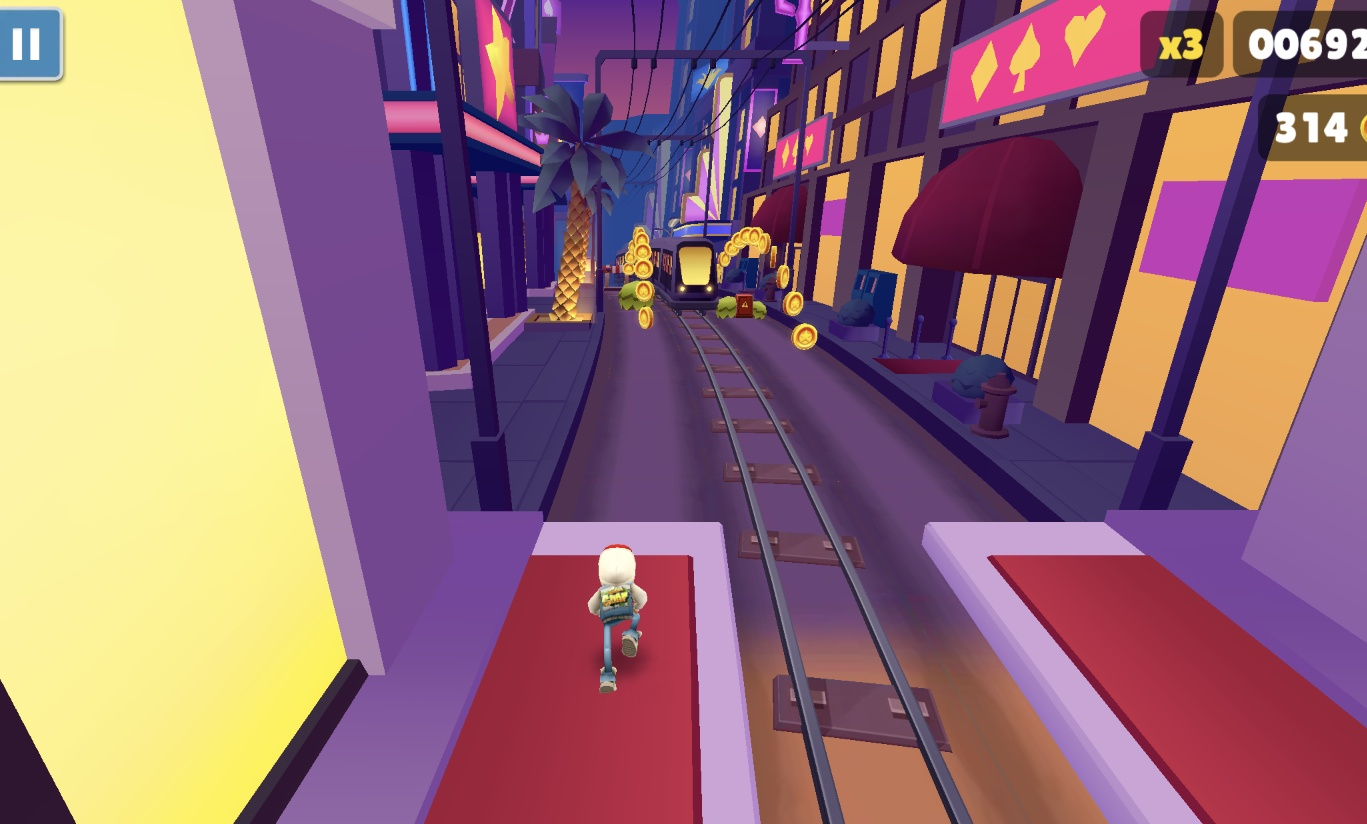bush: (715, 294, 770, 322), (617, 280, 654, 312)
ground_barrier: (606, 263, 628, 288)
small_obstacle: (736, 293, 755, 321)
train: (652, 234, 722, 315), (597, 250, 615, 278)
